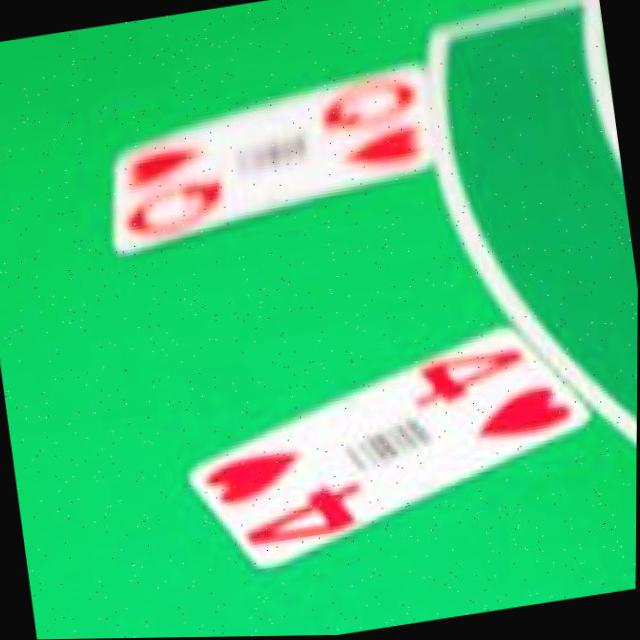Card-4: (185, 328, 590, 570)
Card-Q: (116, 63, 435, 254)
